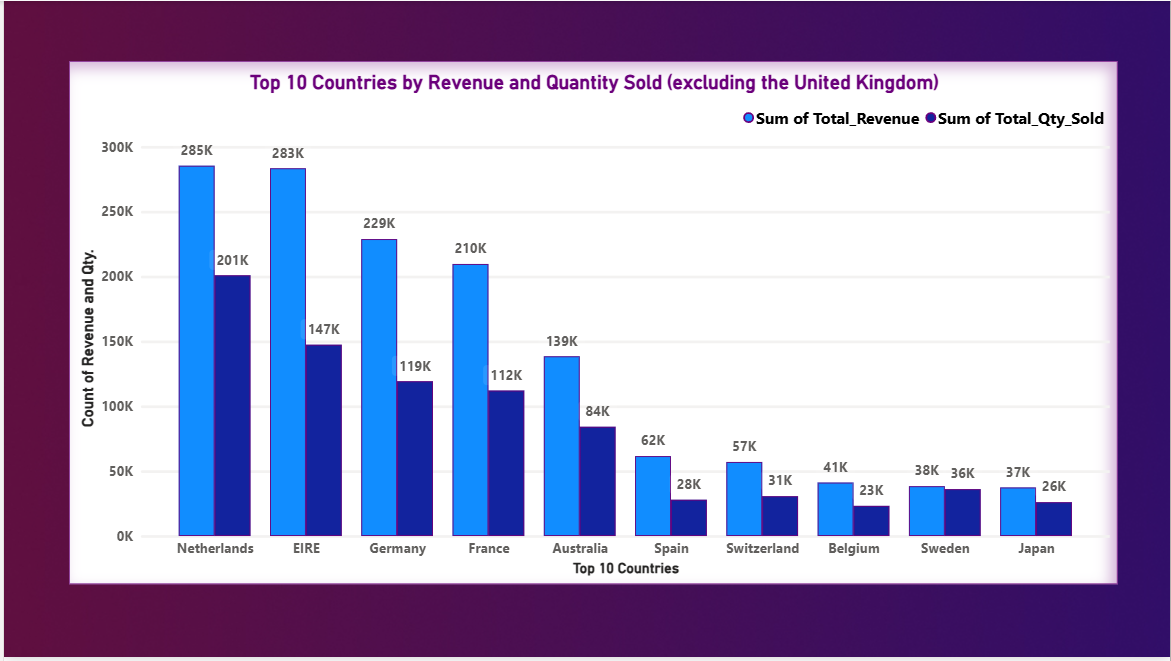

This screenshot's page, from the dashboard's own definition file:
{"tool":"powerbi","page":{"name":"Q2","canvas":[1280,720],"ordinal":1},"visuals":[{"type":"clusteredColumnChart","title":"Top 10 Countries by Revenue and Quantity Sold (excluding the United Kingdom)","fields":{"Category":["Online Retail (2).Country"],"Y":["Sum(Online Retail (2).Total_Revenue)","Sum(Online Retail (3).Total_Qty_Sold)"]},"box":[71.4,65.9,1151.3,574],"z":0}]}

Visuals, with their boxes in screenshot pixels (x1, y1, x2, y2), scaled from the page's 1280x720 canvas onto the 1171x661 screenshot:
"Top 10 Countries by Revenue and Quantity Sold (excluding the United Kingdom)" clusteredColumnChart: detection(65, 60, 1119, 587)
